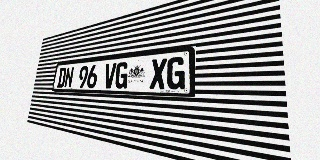6: (86, 64, 99, 88)
9: (77, 65, 89, 88)
D: (57, 67, 67, 88)
G: (166, 56, 186, 89), (114, 62, 129, 89)
N: (64, 67, 74, 88)
V: (103, 63, 117, 88)
X: (149, 58, 167, 89)
